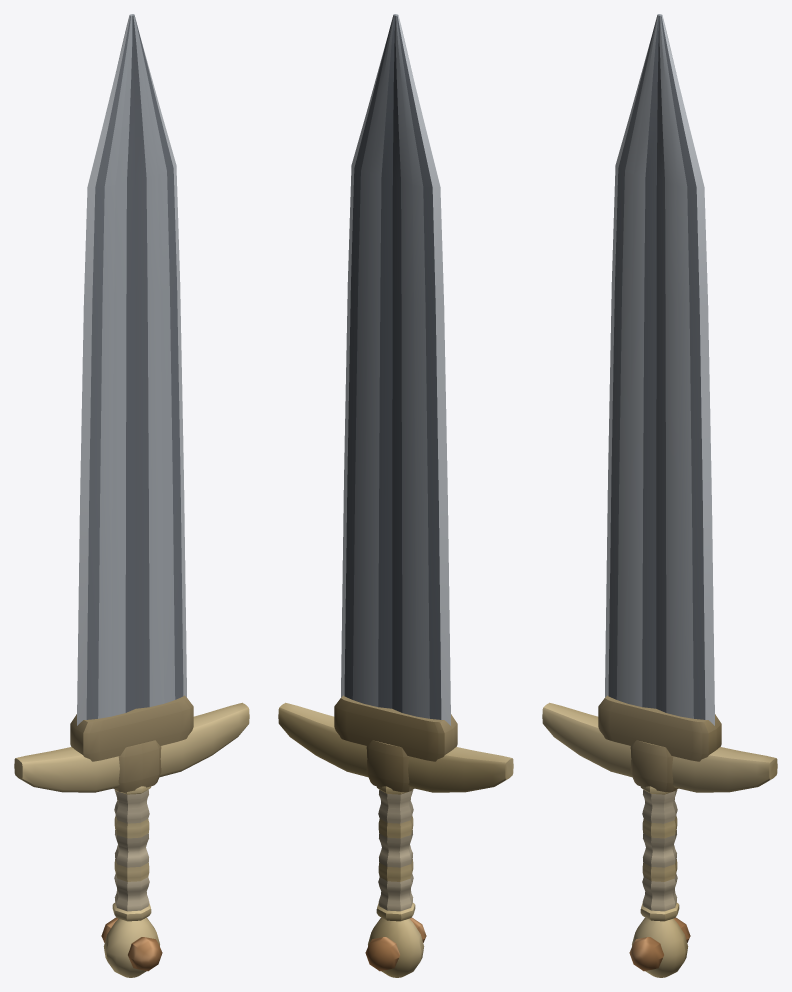
Rendered from WPN_02_Sword_T2_Rare.fbx.
3 renders of one model, left to right at view 1: azimuth 30°, elevation 25°; view 2: azimuth 150°, elevation 25°; view 3: azimuth 330°, elevation 25°, orthographic.
Visible parts, largest first — view 1: EXP_WPN_02_Sword_T2_Rare; view 2: EXP_WPN_02_Sword_T2_Rare; view 3: EXP_WPN_02_Sword_T2_Rare.
Part boxes in pixels (left/top/right/bottom): EXP_WPN_02_Sword_T2_Rare: left=14, top=14, right=249, bottom=977; EXP_WPN_02_Sword_T2_Rare: left=278, top=14, right=513, bottom=977; EXP_WPN_02_Sword_T2_Rare: left=542, top=14, right=777, bottom=977.
Size of the model in its own units: 94 by 380 by 29.68.
1 material, 1 textured.
